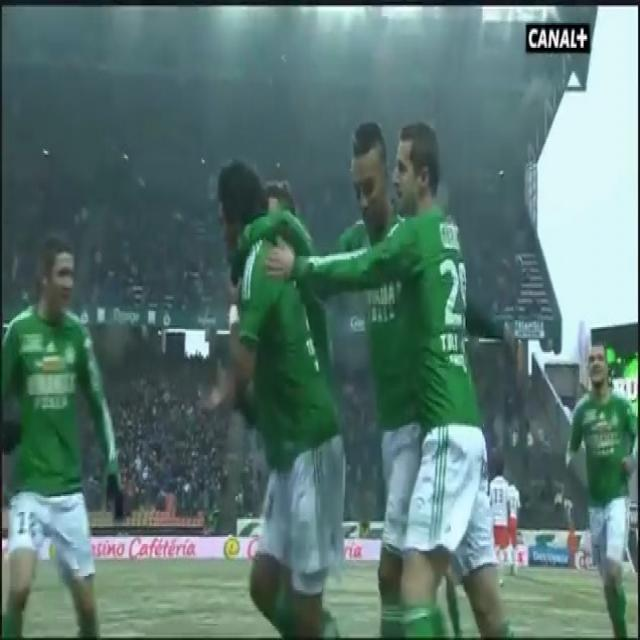player: (205, 138, 356, 640), (390, 123, 519, 640), (326, 107, 441, 640), (5, 232, 123, 640), (572, 285, 640, 639)
